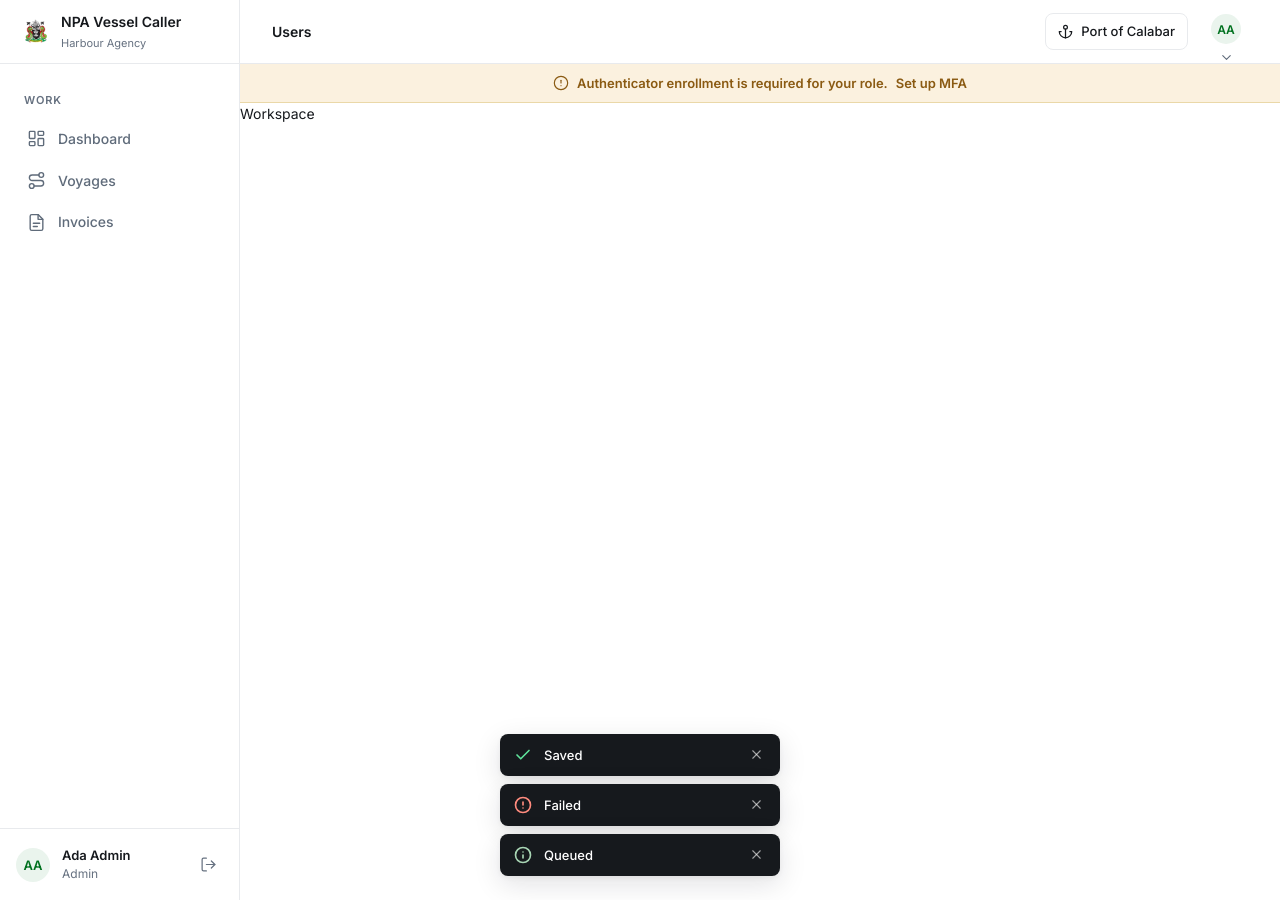
Test: application chrome › keeps team management out of the account menu without user access
Click the button with aria-label "User menu" at (1226, 32), box [1204,14,1248,50]
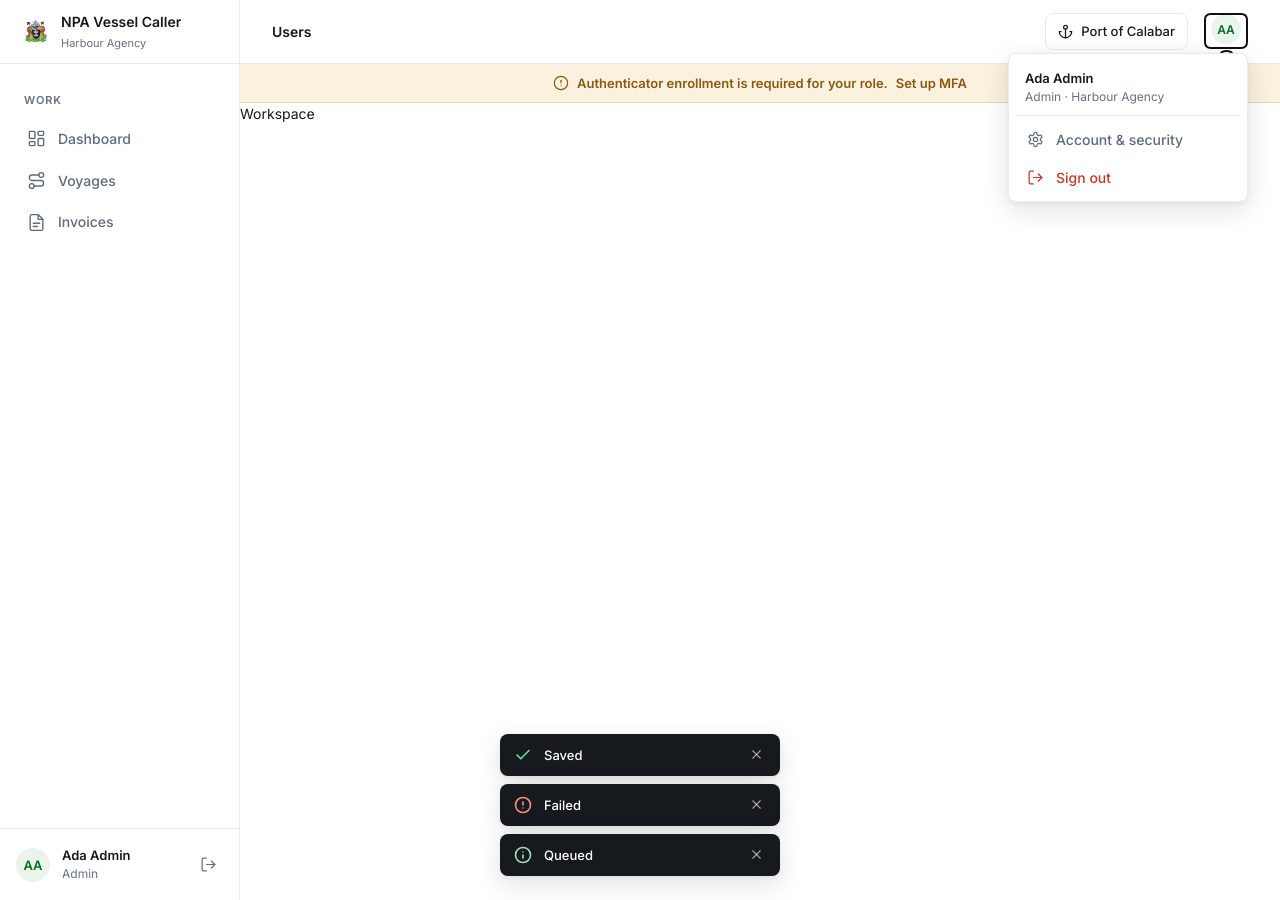
Check: the link with aria-label "Account and security" is shown, box [1027,131,1183,148]
